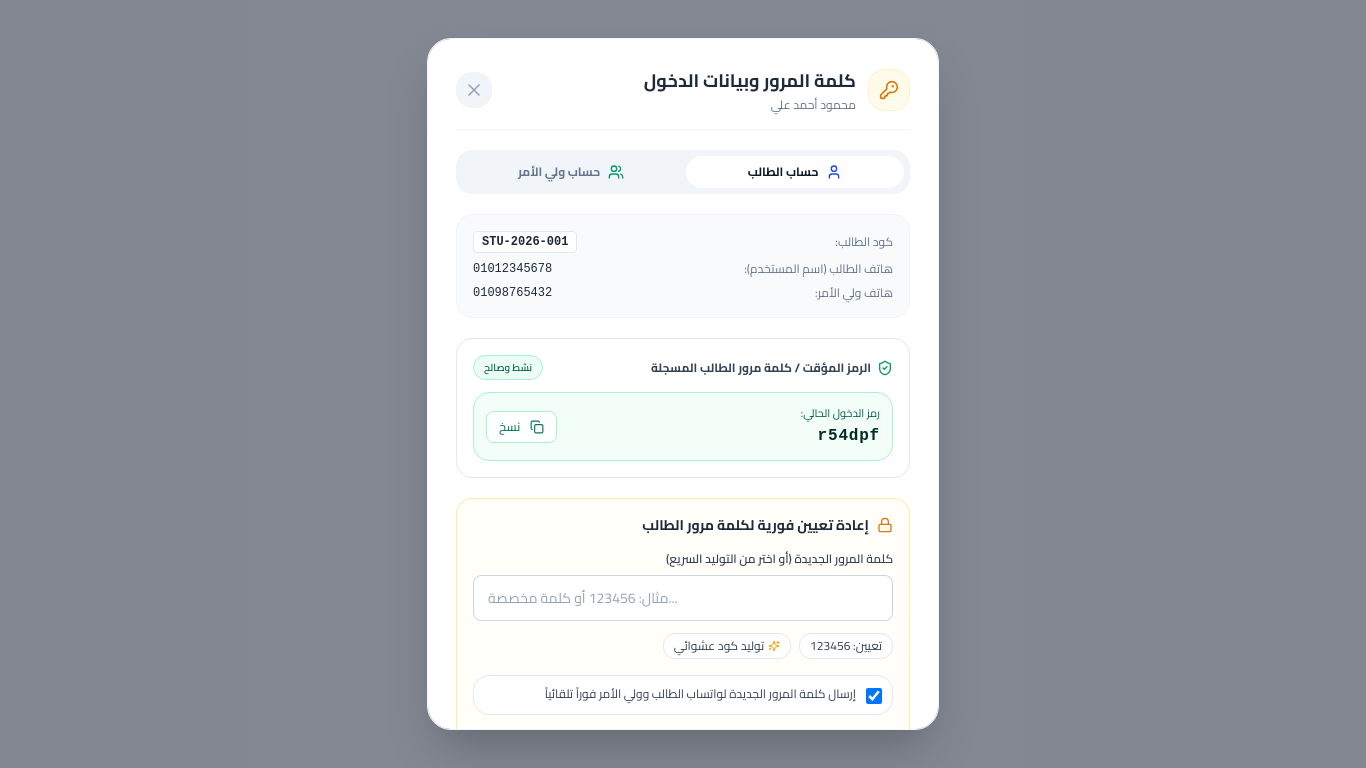
Test: StudentPasswordModal › populates preset password when clicking تعيين: 123456
Click the button "تعيين: 123456": (846, 646) [799,633,893,659]
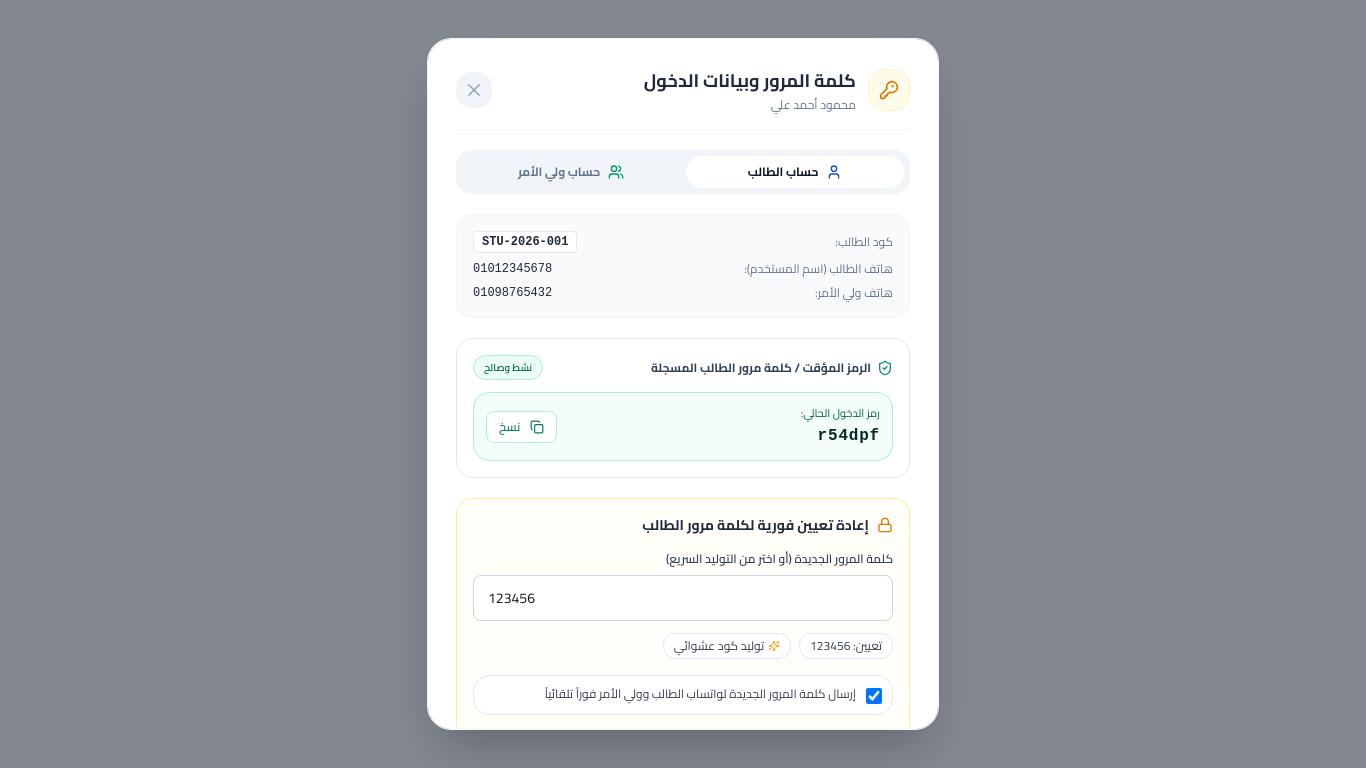
Expected: the field with placeholder "مثال: 123456 أو كلمة مخصصة..." holds "123456", [473,575,893,621]
